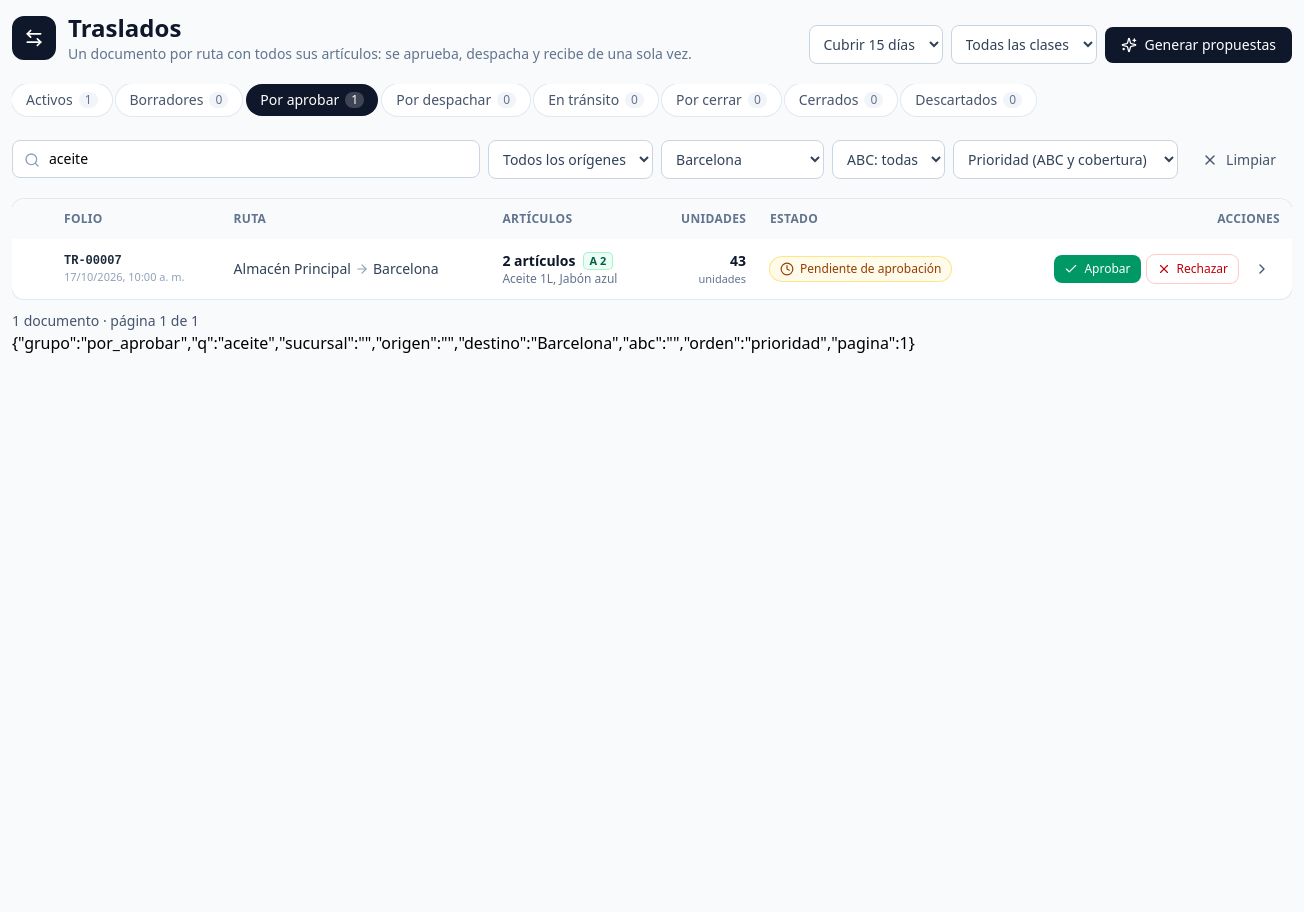
Test: Bandeja de traslados › aprobar actualiza el registro y conserva pestaña, búsqueda y filtros
Click the button "Aprobar": (1097, 269) [1054,255,1140,283]
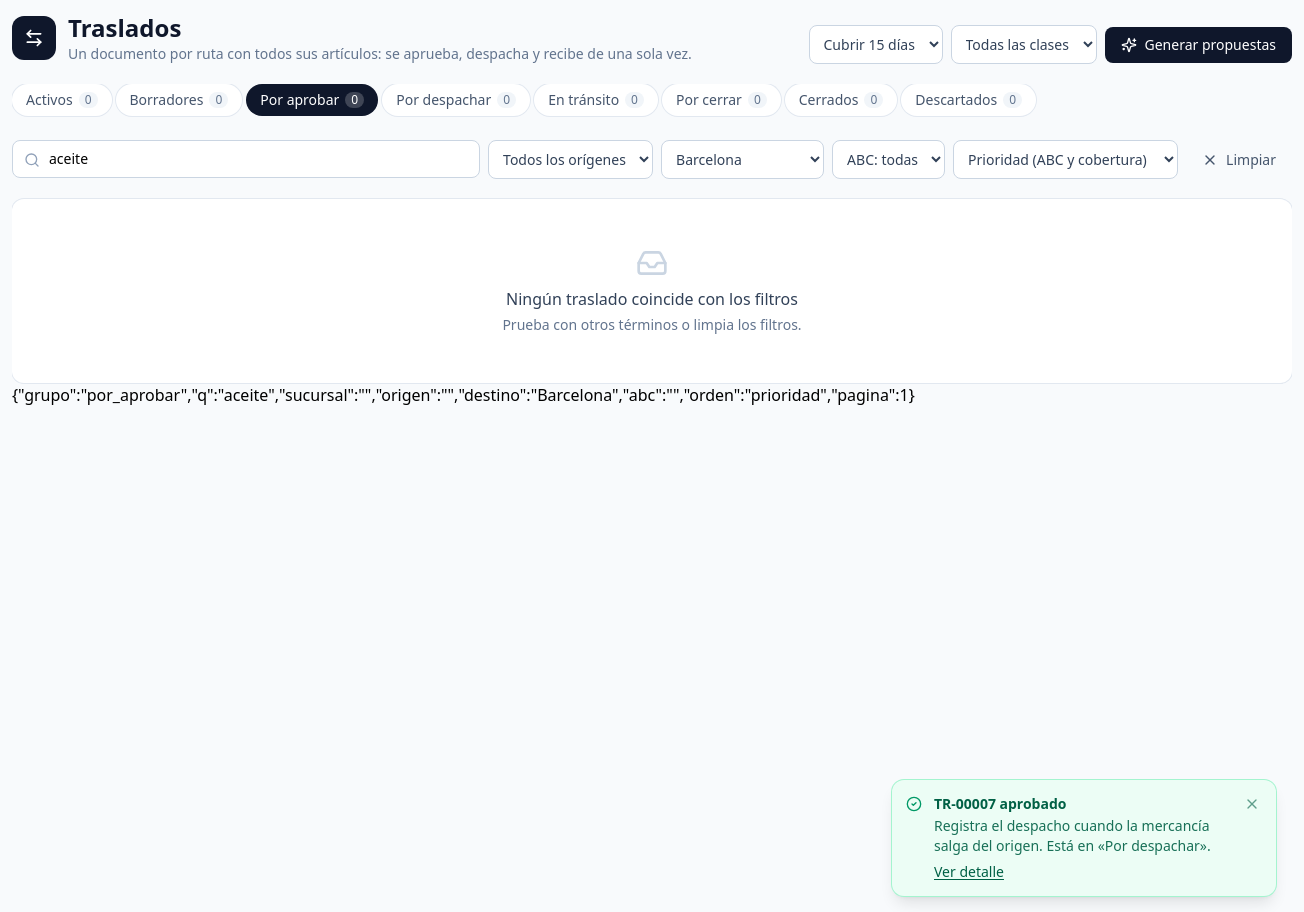
Expected: the search field holds "aceite", [12,140,480,178]
Now the text "TR-00007 aprobado" is shown, box [934,794,1066,813]
Now the text "Ningún traslado coincide con los filtros" is shown, box [506,287,798,311]
